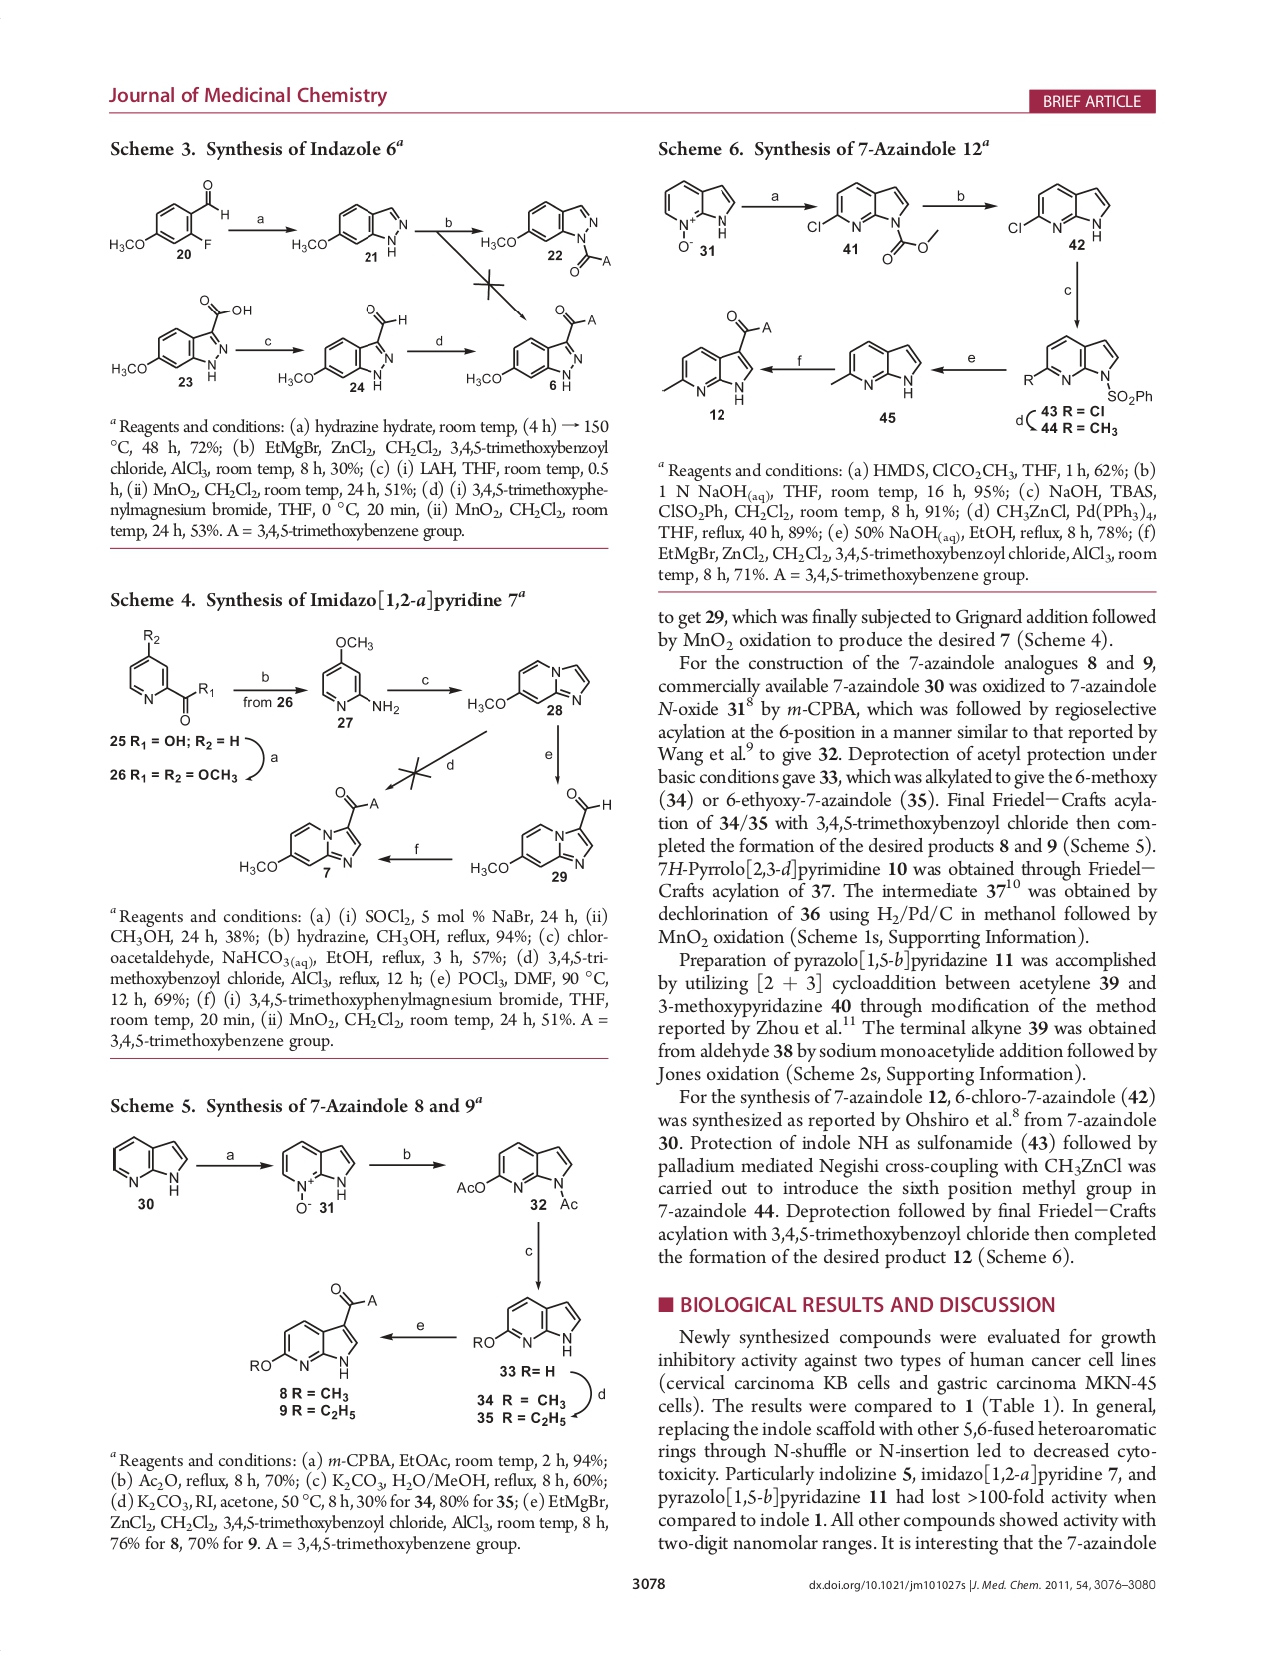exist_molecular: (106, 293, 255, 383), (469, 786, 612, 878), (237, 787, 382, 876), (246, 1283, 379, 1380), (461, 302, 597, 394), (277, 303, 408, 392), (656, 307, 773, 404), (806, 181, 940, 265), (476, 199, 612, 277), (1023, 332, 1153, 406), (106, 178, 231, 253), (453, 1137, 578, 1212), (128, 626, 215, 730), (469, 1295, 585, 1360), (467, 660, 592, 719), (316, 630, 400, 717), (1005, 180, 1114, 243), (289, 203, 410, 259), (828, 338, 924, 404), (277, 1138, 356, 1216), (657, 177, 737, 253), (109, 1133, 191, 1197)
